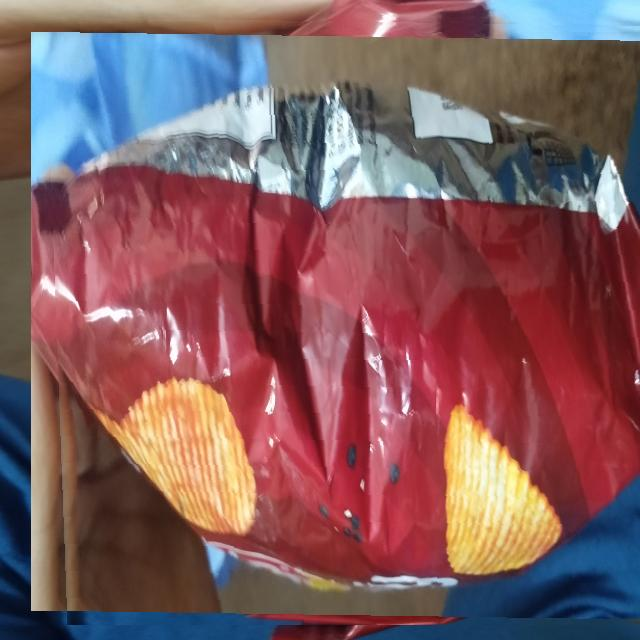Plastic: (45, 17, 640, 625)
